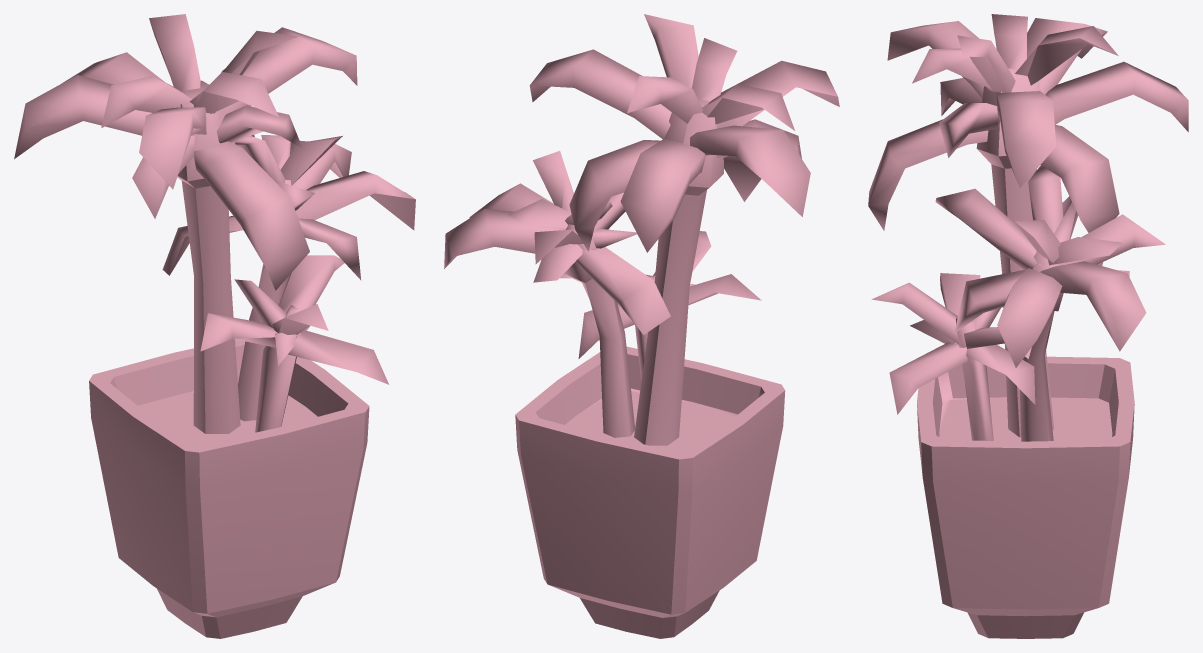
Rendered from Plant.fbx.
The picture shows the model from 3 angles, left to right: view 1: azimuth 30°, elevation 25°; view 2: azimuth 150°, elevation 25°; view 3: azimuth 270°, elevation 25°; orthographic projection. The views are drawn at different scales.
Visible parts, largest first — view 1: Plant; view 2: Plant; view 3: Plant.
Part boxes in pixels (x1,y1,x2,y2): Plant: (14, 14, 415, 638); Plant: (444, 14, 839, 638); Plant: (868, 14, 1188, 638).
Bounding box in the file's own units: 75.46 × 116 × 57.8.
